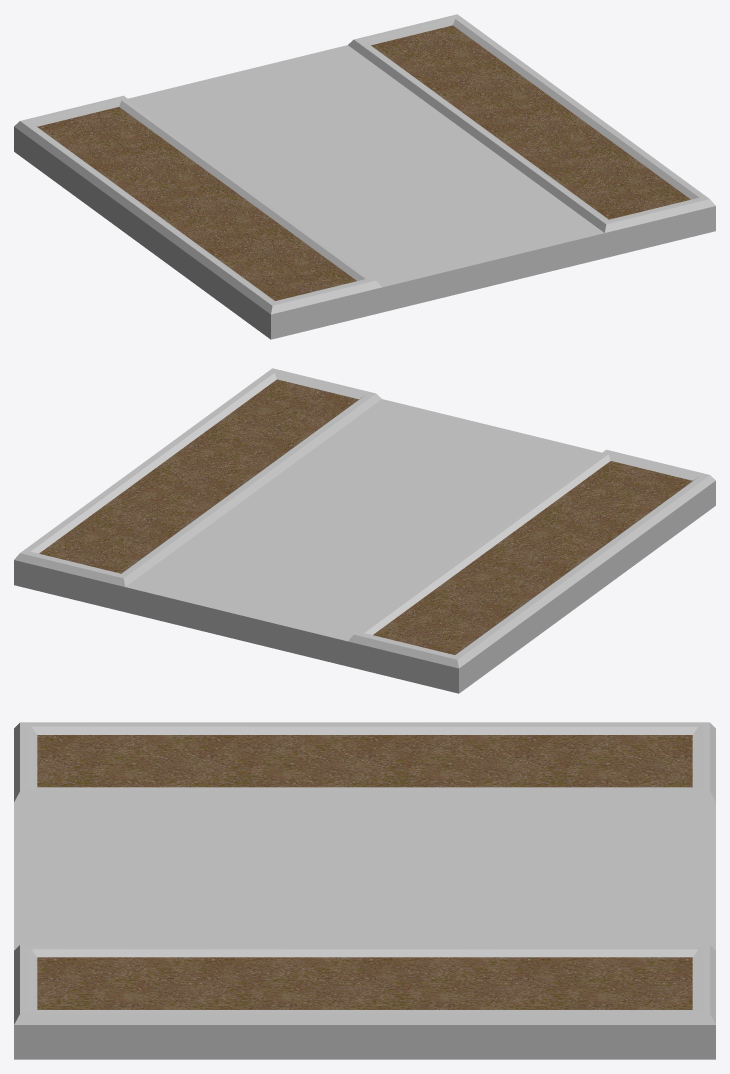
File: Path_F.fbx
3 views of the same model, one above another, from view 1: azimuth 30°, elevation 25°; view 2: azimuth 150°, elevation 25°; view 3: azimuth 270°, elevation 25° (orthographic). The views are drawn at different scales.
Visible parts, largest first — view 1: Path_F; view 2: Path_F; view 3: Path_F.
Boxes of the visible parts, x1,y1,x2,y2 form: Path_F: (14, 14, 715, 339); Path_F: (14, 368, 715, 693); Path_F: (14, 722, 715, 1059).
Bounding box in the file's own units: 1000 × 67.41 × 1000.
